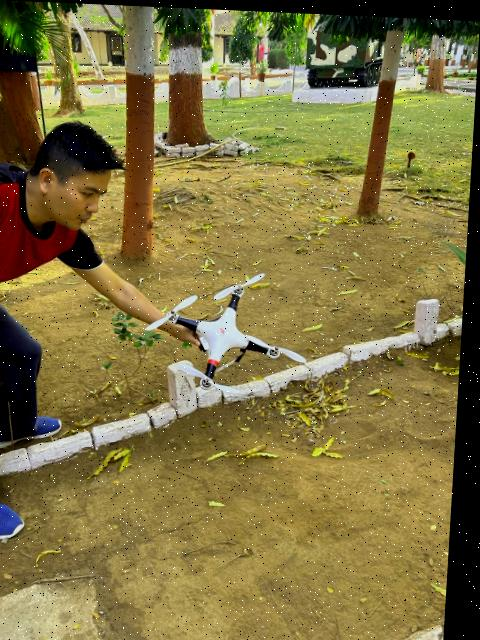drone: (137, 259, 323, 406)
